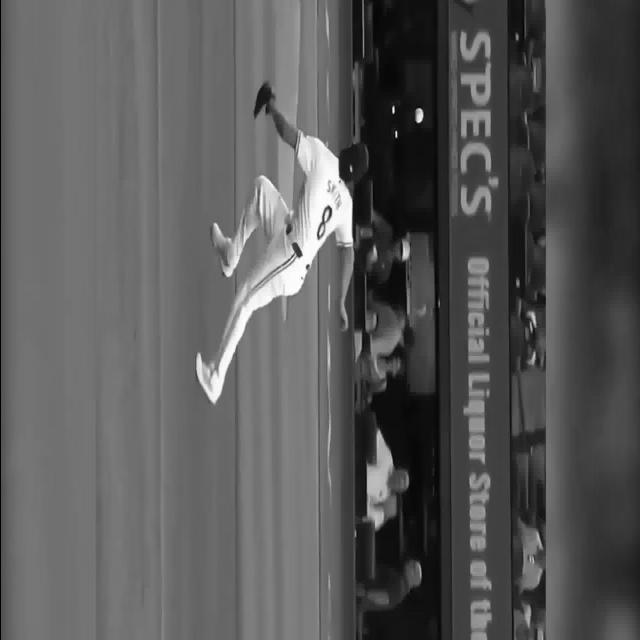baseball: (414, 107, 422, 124)
baseball_glove: (252, 82, 274, 118)
shoe: (195, 353, 221, 405), (210, 222, 234, 278)
